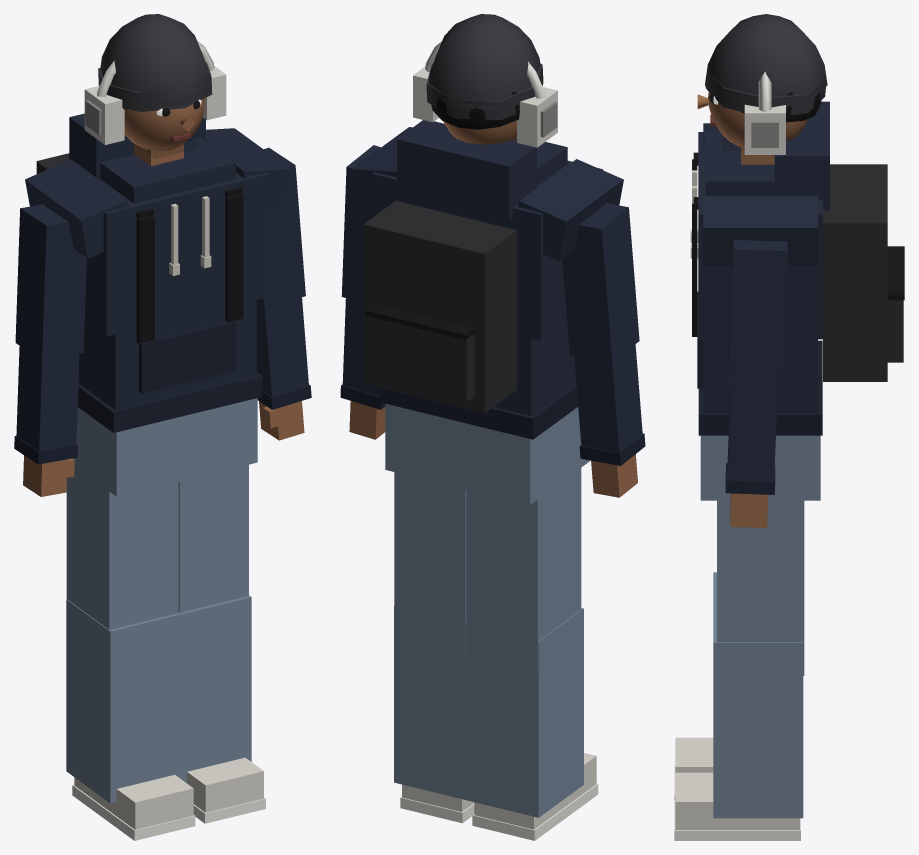
Rendered from passenger_hoodie_standing.glb.
The picture shows the model from 3 angles, left to right: view 1: azimuth 30°, elevation 25°; view 2: azimuth 150°, elevation 25°; view 3: azimuth 270°, elevation 25°; orthographic projection. The views are drawn at different scales.
Parts seen in each view (by area): view 1: passenger_hoodie_standing, Head, Body_Skin, Head_Skin; view 2: passenger_hoodie_standing, Head, Body_Skin, Head_Skin; view 3: passenger_hoodie_standing, Head, Body_Skin, Head_Skin.
Part boxes in pixels (x1=…): passenger_hoodie_standing: x1=14, y1=113, x2=311, y2=840; Head: x1=84, y1=14, x2=226, y2=157; Body_Skin: x1=23, y1=144, x2=304, y2=496; Head_Skin: x1=124, y1=98, x2=204, y2=151; passenger_hoodie_standing: x1=340, y1=120, x2=645, y2=840; Head: x1=413, y1=14, x2=557, y2=147; Body_Skin: x1=349, y1=401, x2=637, y2=497; Head_Skin: x1=444, y1=120, x2=516, y2=144; passenger_hoodie_standing: x1=674, y1=101, x2=904, y2=840; Head: x1=705, y1=14, x2=827, y2=154; Body_Skin: x1=730, y1=147, x2=774, y2=528; Head_Skin: x1=697, y1=92, x2=808, y2=148.
Size of the model in its own units: 0.699 by 1.89 by 0.5.
